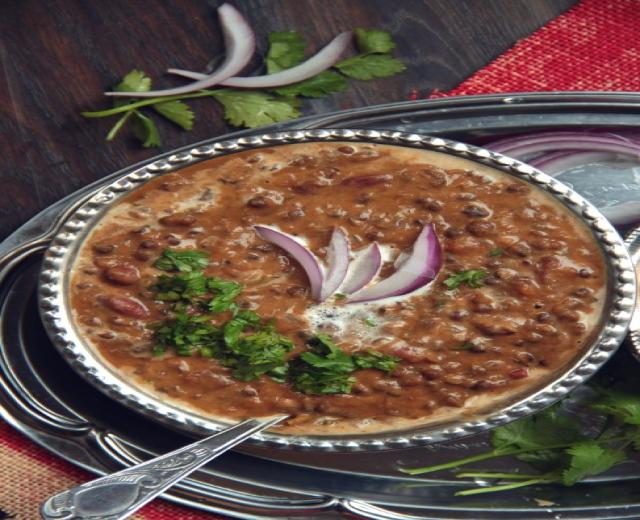dal makhni: (37, 131, 625, 446)
